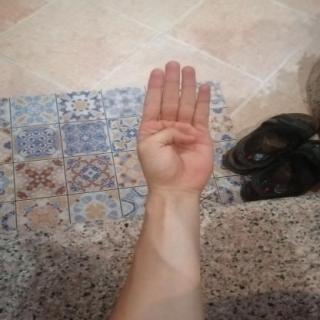KAAF: (117, 53, 233, 202)
